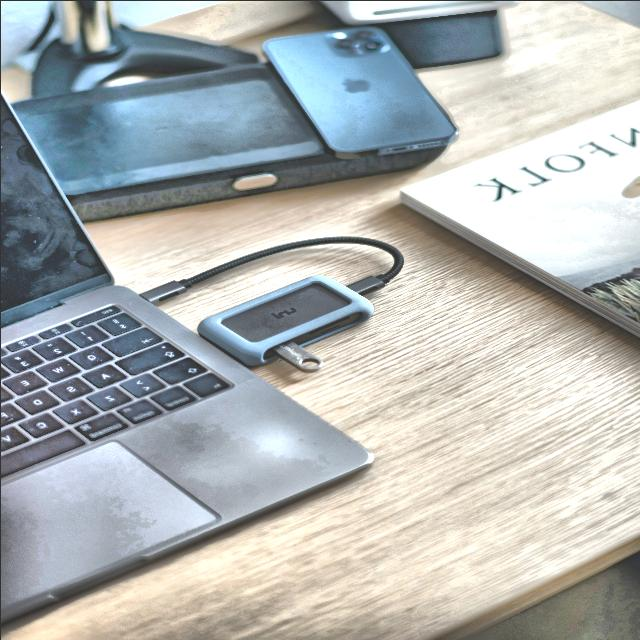HUB: (139, 235, 402, 370)
